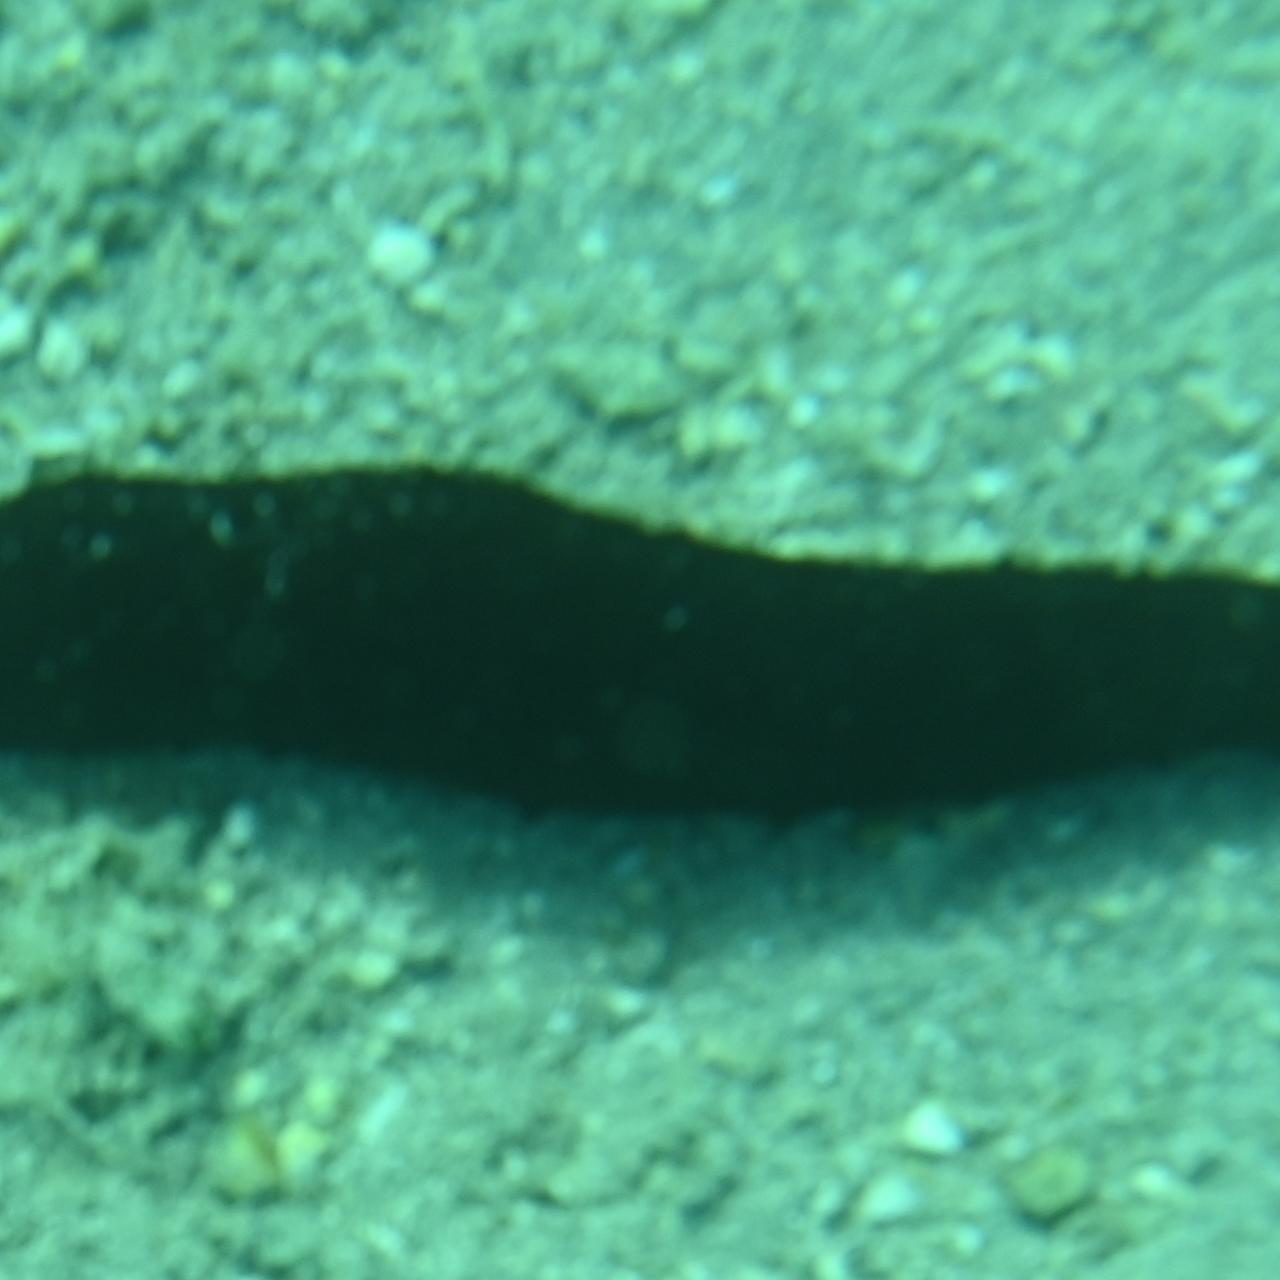Holothuria tubulosa: (0, 448, 1280, 832)
